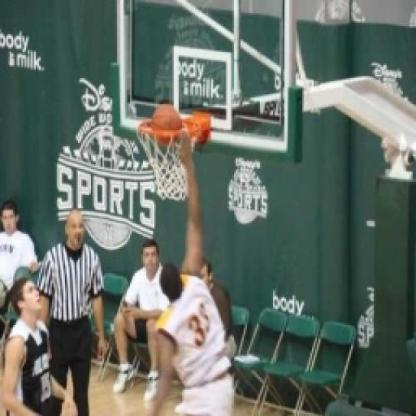basketball: (148, 98, 185, 145)
